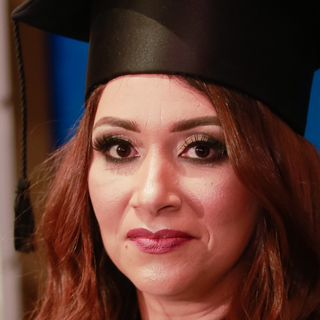eye: (177, 138, 225, 165), (96, 135, 138, 165)
